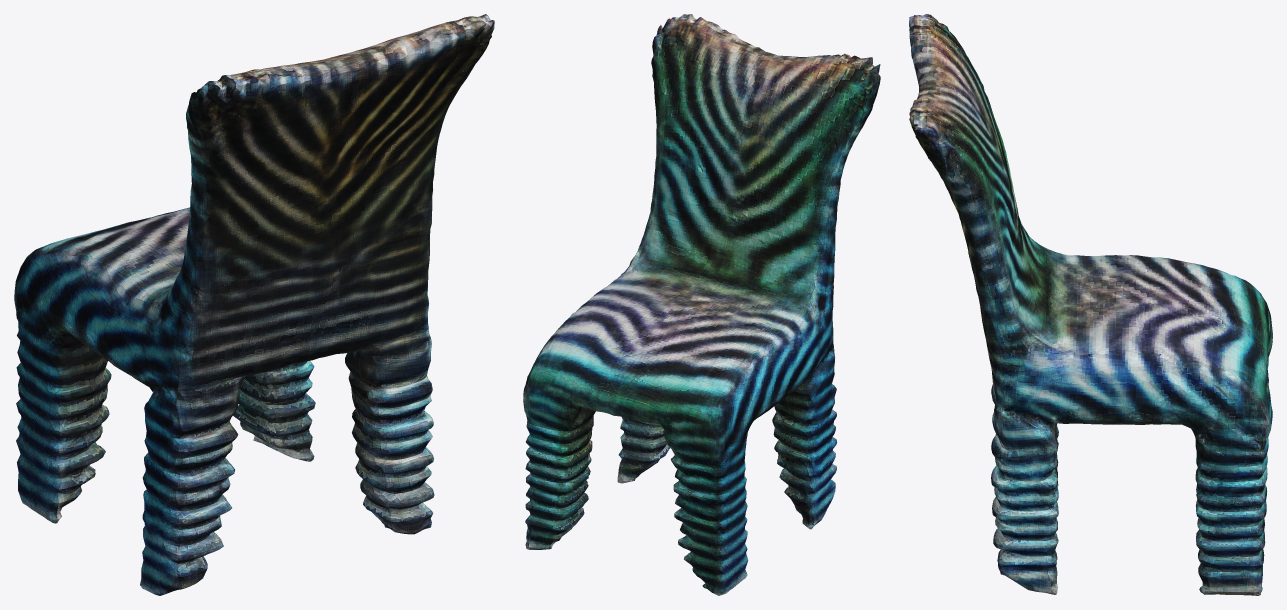
File: a chair that looks like a zebra.glb
3 renders of one model, left to right at view 1: azimuth 30°, elevation 25°; view 2: azimuth 150°, elevation 25°; view 3: azimuth 270°, elevation 25°, orthographic. The views are drawn at different scales.
Size of the model in its own units: 0.5433 by 0.9942 by 0.6875.
Materials: 1 (1 with a texture image).
